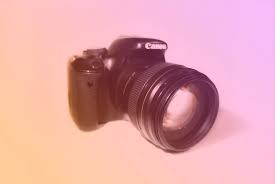camera: (68, 38, 219, 154)
